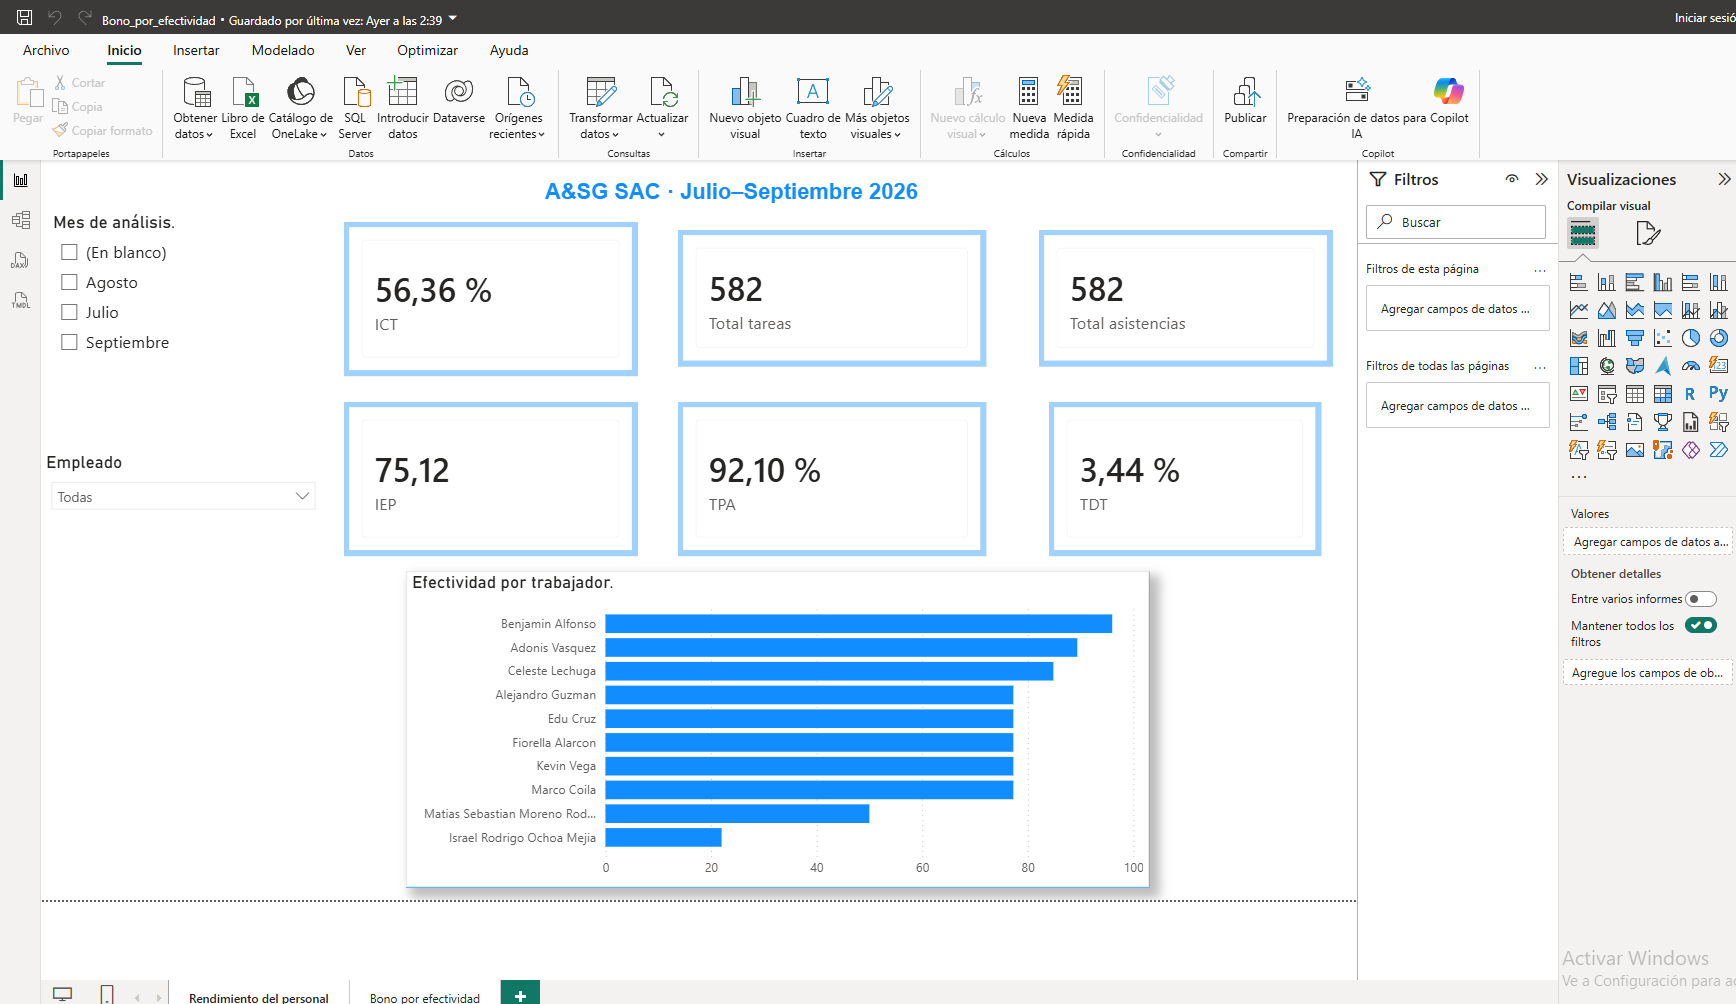

Layout of this report page (visuals, bound fields, positions):
{"tool":"powerbi","page":{"name":"Rendimiento del personal","canvas":[1280,720],"ordinal":0},"visuals":[{"type":"cardVisual","fields":{"Data":["vw_rendimiento_kpis.Total asistencias"]},"box":[970.2,67.9,285.8,132.9],"z":0},{"type":"cardVisual","fields":{"Data":["vw_dim_administrador.Total tareas"]},"box":[619.5,67.9,299.8,132.9],"z":1000},{"type":"textbox","box":[401.7,14,539.6,54],"z":2000},{"type":"cardVisual","fields":{"Data":["vw_rendimiento_kpis.ICT"]},"box":[294.8,60,285.8,149.9],"z":3000},{"type":"cardVisual","fields":{"Data":["vw_rendimiento_kpis.TPA"]},"box":[619.5,235.8,299.8,149.9],"z":4000},{"type":"cardVisual","fields":{"Data":["vw_rendimiento_kpis.IEP"]},"box":[294.8,235.8,285.8,149.9],"z":5000},{"type":"cardVisual","fields":{"Data":["vw_rendimiento_kpis.TDT"]},"box":[980.2,235.8,264.8,149.9],"z":6000},{"type":"slicer","title":"Mes de análisis.","fields":{"Values":["vw_dim_tiempo.nombre_mes"]},"box":[7,51,267.8,166.9],"z":7000},{"type":"slicer","title":"Empleado","fields":{"Values":["vw_dim_trabajador.nombre_completo"]},"box":[0,283.8,276.8,83.9],"z":8000},{"type":"clusteredBarChart","title":"Efectividad por trabajador.","fields":{"Category":["vw_dim_trabajador.nombre_completo"],"Y":["vw_rendimiento_kpis.IEP"]},"box":[354.7,399.7,723.4,307.8],"z":9000}]}

Visuals, with their boxes on the page's 1280x720 design canvas (x1, y1, x2, y2). These are canvas units, not pixel positions in the 1736x1004 screenshot, which may show the page scaled, cropped or inside an application window:
cardVisual - vw_rendimiento_kpis.Total asistencias: BBox(970, 68, 1256, 201)
cardVisual - vw_dim_administrador.Total tareas: BBox(620, 68, 919, 201)
textbox: BBox(402, 14, 941, 68)
cardVisual - vw_rendimiento_kpis.ICT: BBox(295, 60, 581, 210)
cardVisual - vw_rendimiento_kpis.TPA: BBox(620, 236, 919, 386)
cardVisual - vw_rendimiento_kpis.IEP: BBox(295, 236, 581, 386)
cardVisual - vw_rendimiento_kpis.TDT: BBox(980, 236, 1245, 386)
"Mes de análisis." slicer: BBox(7, 51, 275, 218)
"Empleado" slicer: BBox(0, 284, 277, 368)
"Efectividad por trabajador." clusteredBarChart: BBox(355, 400, 1078, 708)
